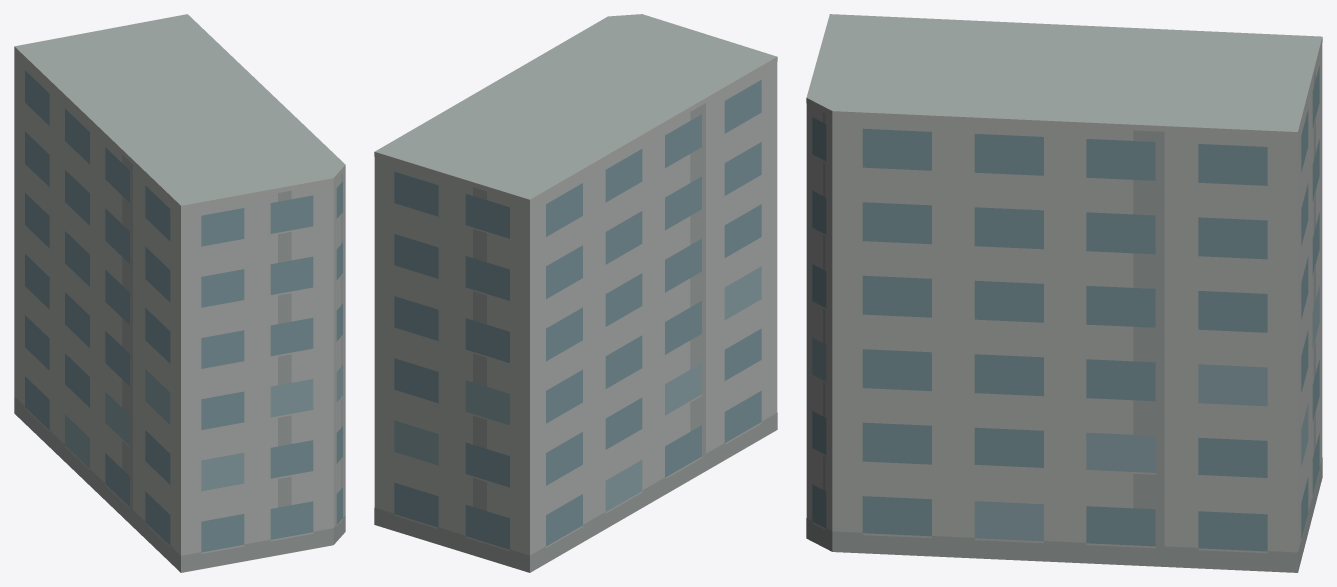
Rendered from survey-upis-33000021.glb.
The picture shows the model from 3 angles, left to right: view 1: azimuth 30°, elevation 25°; view 2: azimuth 150°, elevation 25°; view 3: azimuth 270°, elevation 25°; orthographic projection. The views are drawn at different scales.
Parts seen in each view (by area): view 1: survey-upis-33000021.tmp; view 2: survey-upis-33000021.tmp; view 3: survey-upis-33000021.tmp.
Part boxes in pixels (left/top/right/bottom): survey-upis-33000021.tmp: left=14, top=14, right=345, bottom=572; survey-upis-33000021.tmp: left=374, top=14, right=777, bottom=572; survey-upis-33000021.tmp: left=806, top=14, right=1322, bottom=572.
Size of the model in its own units: 10.69 by 18.6 by 19.74.
